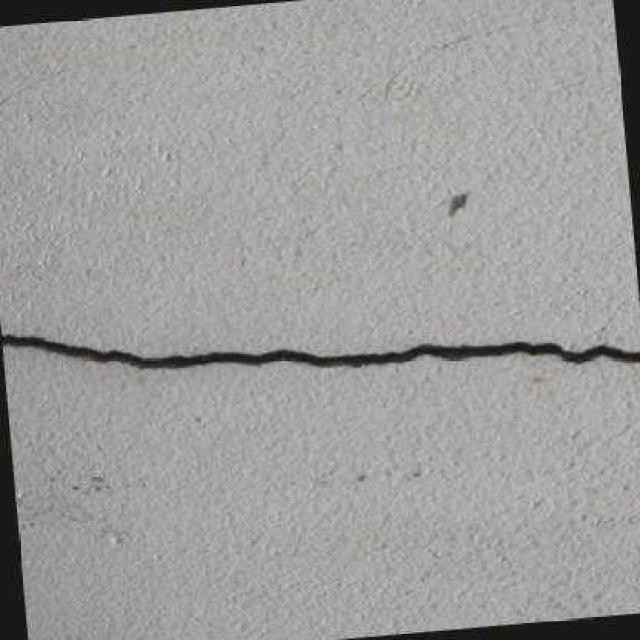D00: (0, 333, 640, 370)
